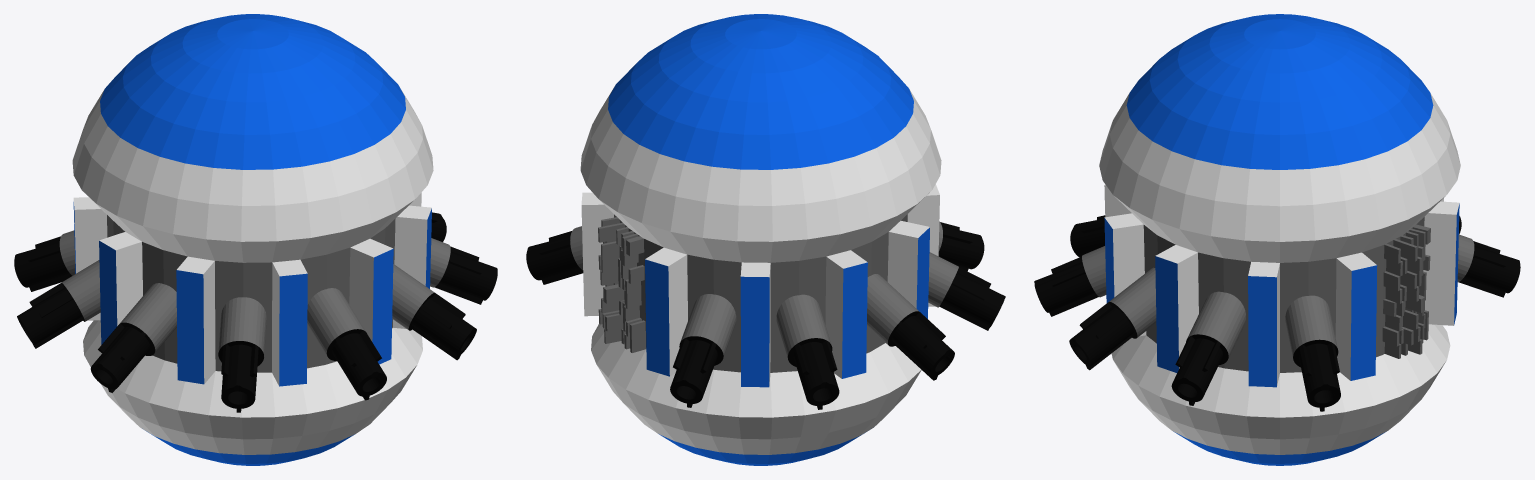
Rendered from Torre Media D.fbx.
The picture shows the model from 3 angles, left to right: view 1: azimuth 30°, elevation 25°; view 2: azimuth 150°, elevation 25°; view 3: azimuth 270°, elevation 25°; orthographic projection.
Visible parts, largest first — view 1: Cube; view 2: Cube; view 3: Cube.
Part boxes in pixels (x1,y1,x2,y2): Cube: (14, 14, 497, 465); Cube: (526, 14, 1005, 465); Cube: (1034, 14, 1520, 465).
Size of the model in its own units: 264 by 250 by 264.
